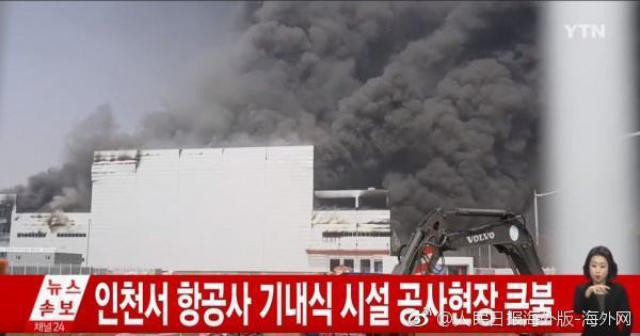smoke: (380, 0, 532, 210), (226, 0, 382, 140), (154, 83, 220, 143), (310, 144, 380, 186), (30, 168, 84, 206), (74, 117, 114, 152)
